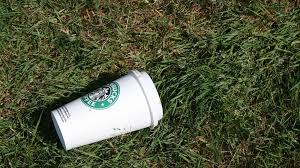paper_cup: (50, 69, 166, 153)
